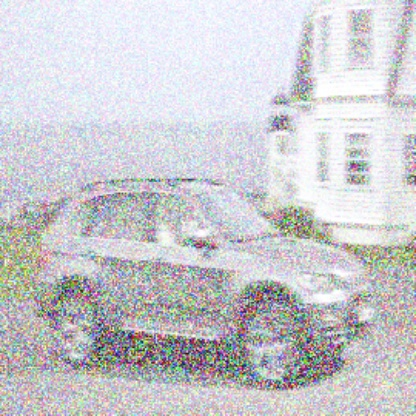Vehicle: (32, 176, 376, 390)
